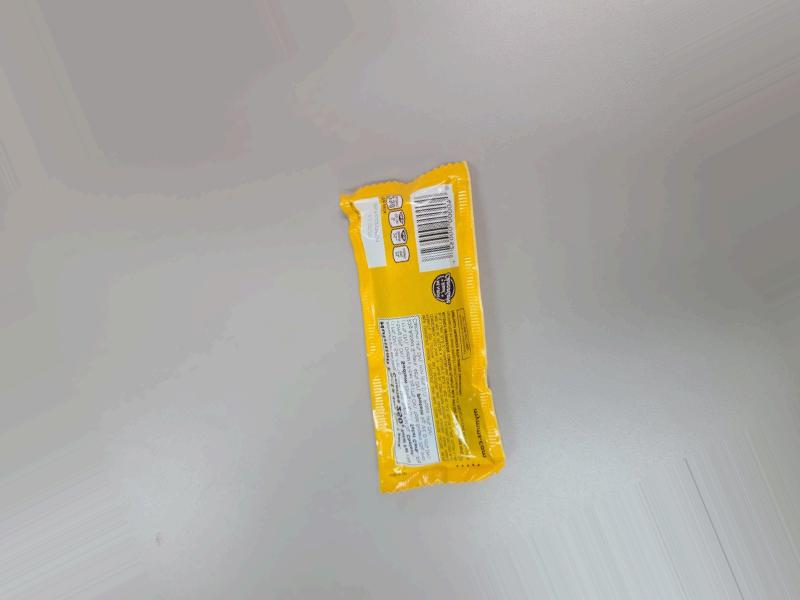m&m: (317, 121, 506, 535)
